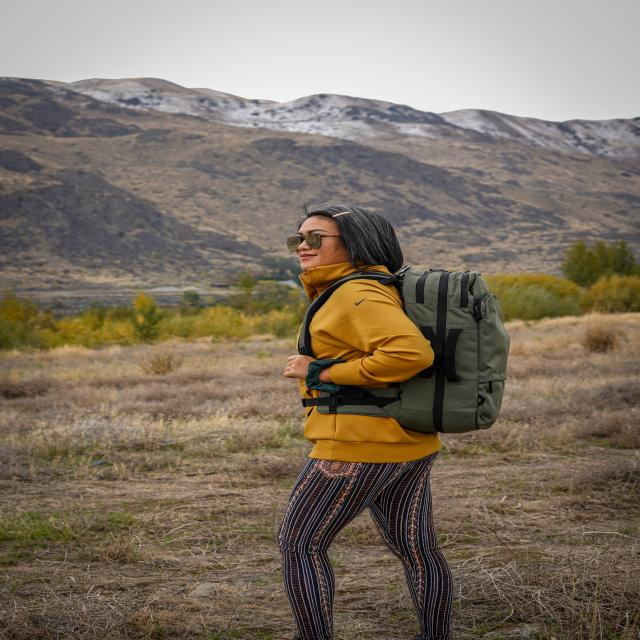backpack: (293, 270, 512, 433)
